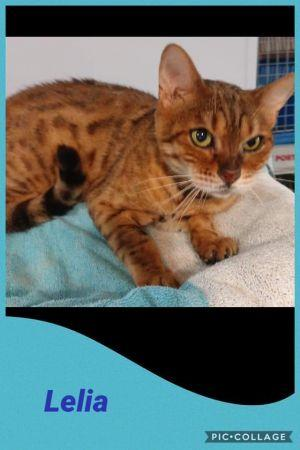bengal: (147, 40, 300, 201)
